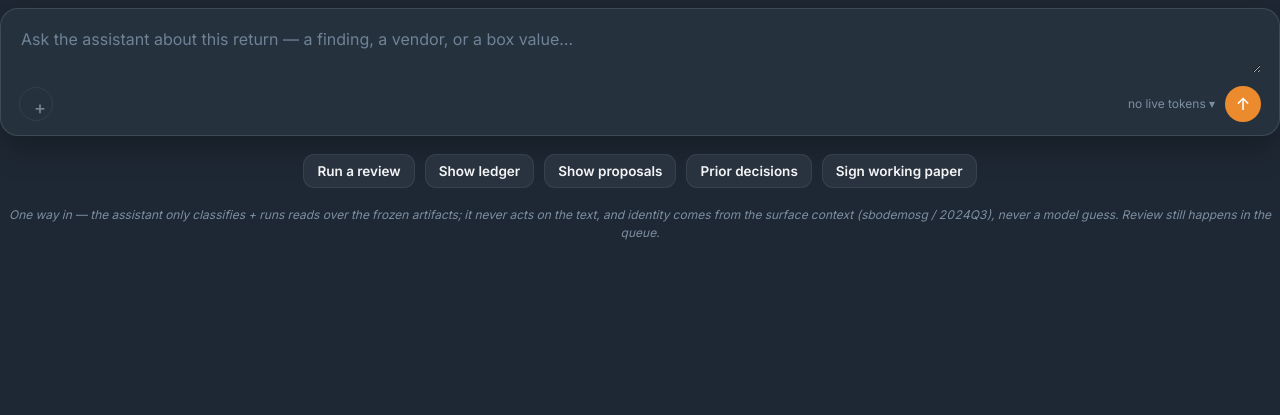
Scenario: CommandBar (T6.2) › renders an out_of_scope reply; intent buttons remain available
This screenshot has width=1280, height=415.
Type an off-menu utterance, then ask.
Replace the text in the text box with placeholder "Ask the assistant" with "what's the weather" at x=640, y=50, box top-left (19, 27), bottom-right (1261, 73)
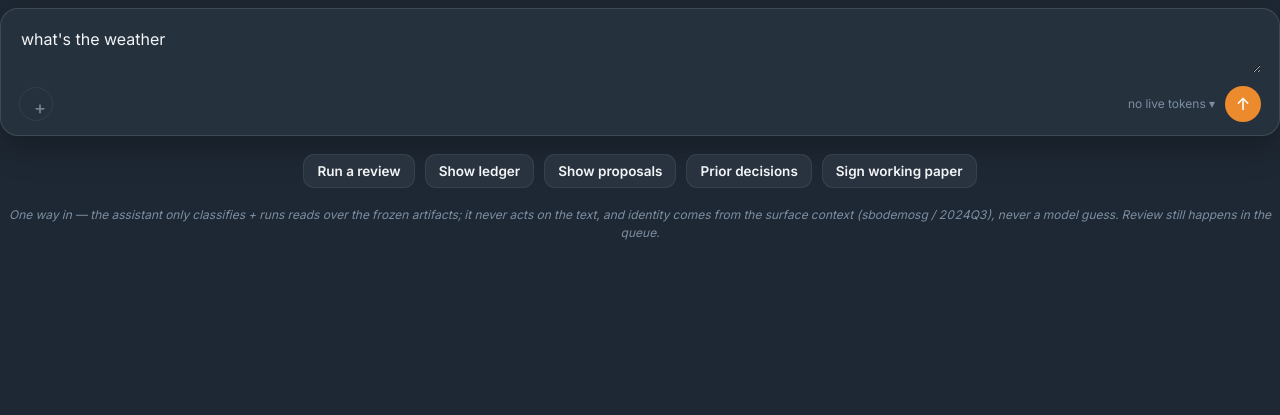
Click the button named "Ask" at x=1243, y=104, box top-left (1225, 86), bottom-right (1261, 122)
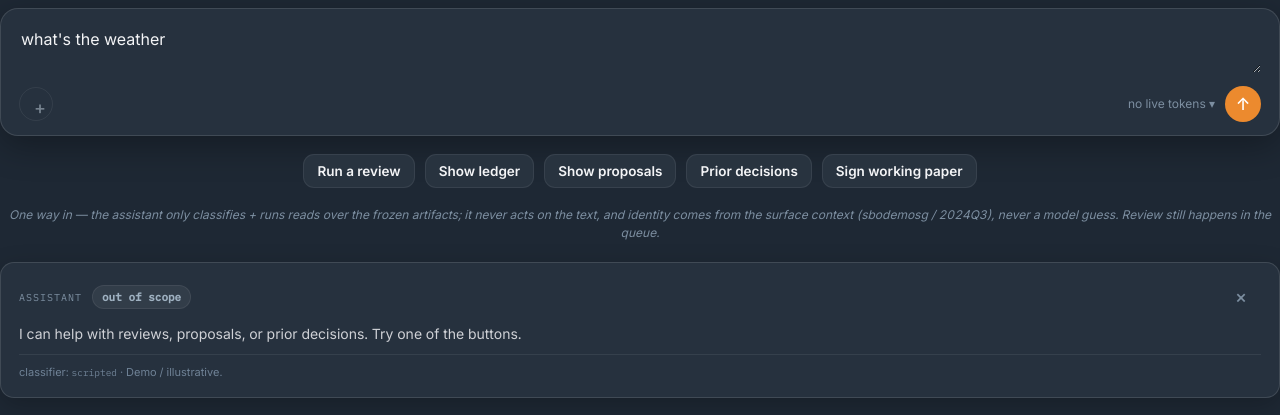
Expected: the button "Run a review" is shown, top-left (303, 154), bottom-right (415, 188)
Expected: the text "I can help with reviews" is shown, top-left (19, 325), bottom-right (522, 342)
